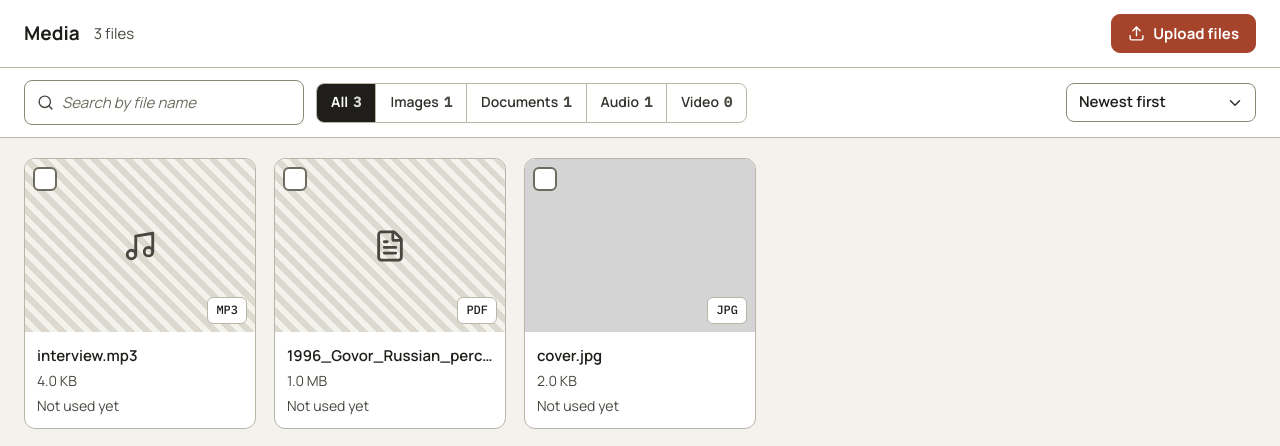
Test case: Media library › filters to images only
Expected: the link "cover.jpg" is shown, 537,345 -> 602,366
Click the button "Images 1" at (421, 103), box 376,84 -> 466,122
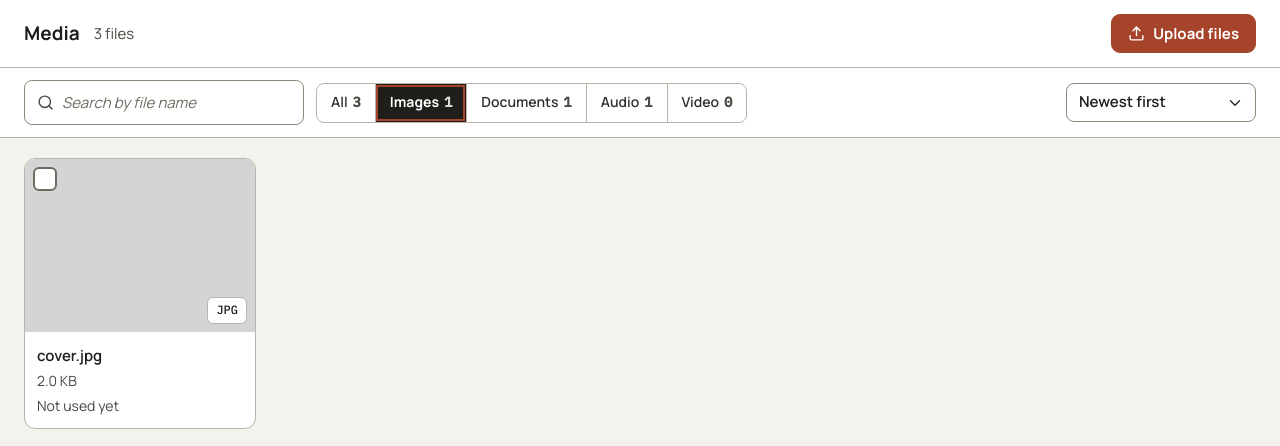
Expected: the link "cover.jpg" is shown, 37,345 -> 102,366
Expected: the link "1996_Govor_Russian_perceptions.pdf" is gone
